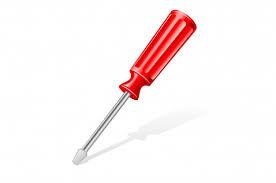screwdriver: (71, 9, 196, 164)
